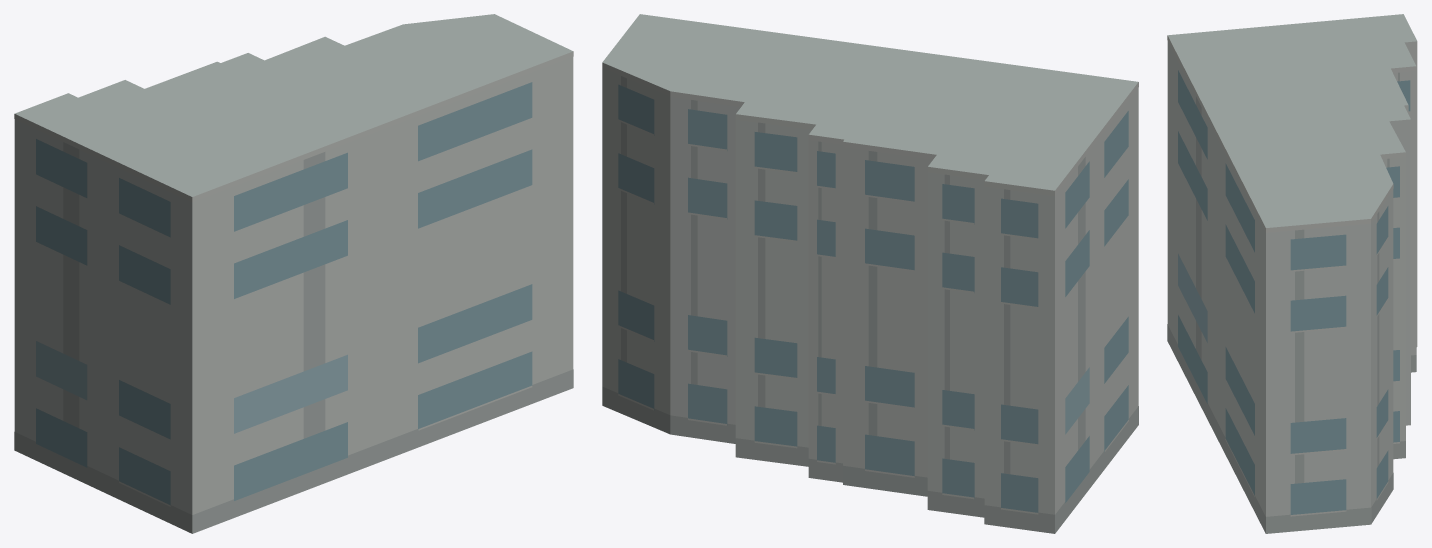
File: survey-upis-32760823.glb
3 views of the same model, side by side, from view 1: azimuth 30°, elevation 25°; view 2: azimuth 150°, elevation 25°; view 3: azimuth 270°, elevation 25° (orthographic). The views are drawn at different scales.
Visible parts, largest first — view 1: survey-upis-32760823.tmp; view 2: survey-upis-32760823.tmp; view 3: survey-upis-32760823.tmp.
Part boxes in pixels (left/top/right/bottom): survey-upis-32760823.tmp: left=14, top=14, right=573, bottom=533; survey-upis-32760823.tmp: left=602, top=14, right=1138, bottom=533; survey-upis-32760823.tmp: left=1167, top=14, right=1417, bottom=533.
Size of the model in its own units: 22.91 by 15.25 by 11.31.
